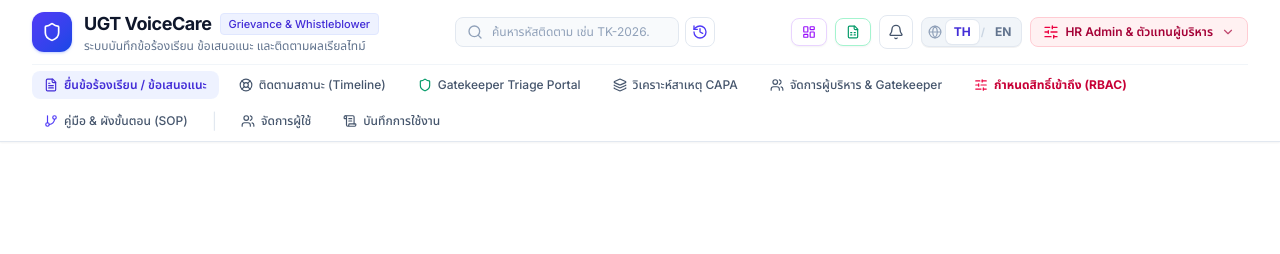
Navbar › shows the Export button for admin and keeps the SSO identity menu (no role switcher)
Expected: the button with id "btn-quick-export" is shown, 835,18 -> 871,46
Expected: the button with id "nav-tab-admin-users" is shown, 229,107 -> 323,135
Click the button with id "btn-identity-menu".
click(1139, 32)  # box 1030,17 -> 1248,47
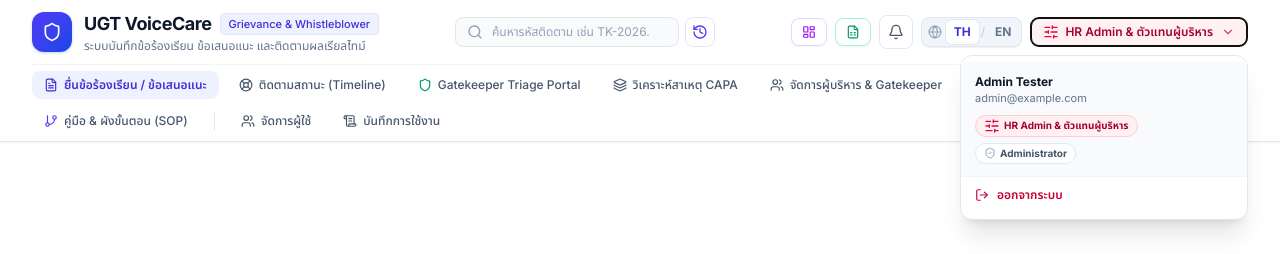
Now the text "Admin Tester" is shown, box 975,74 -> 1053,89
Now the text "admin@example.com" is shown, box 975,91 -> 1087,105
Now the button with id "btn-sign-out" is shown, box 961,176 -> 1247,212
